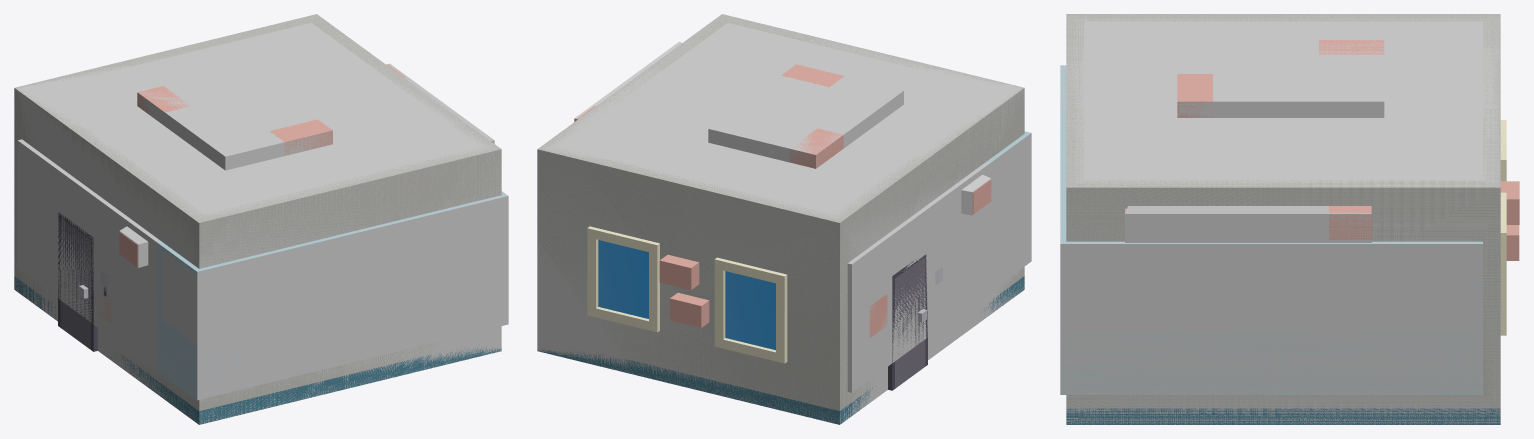
The model's file is Home11_B1_1_01.FBX.
3 renders of one model, left to right at view 1: azimuth 30°, elevation 25°; view 2: azimuth 150°, elevation 25°; view 3: azimuth 270°, elevation 25°, orthographic. The views are drawn at different scales.
Parts seen in each view (by area): view 1: Home11_B1_Damage_1_01, Home11_B1_Live_1_01; view 2: Home11_B1_Damage_1_01, Home11_B1_Live_1_01; view 3: Home11_B1_Damage_1_01, Home11_B1_Live_1_01.
Part boxes in pixels (bbox=[...]): Home11_B1_Damage_1_01: bbox=[14, 15, 508, 424]; Home11_B1_Live_1_01: bbox=[14, 14, 507, 424]; Home11_B1_Damage_1_01: bbox=[537, 14, 1031, 424]; Home11_B1_Live_1_01: bbox=[537, 14, 1030, 424]; Home11_B1_Damage_1_01: bbox=[1060, 14, 1500, 424]; Home11_B1_Live_1_01: bbox=[1060, 14, 1519, 424].
Bounding box in the file's own units: 5.81 × 3.58 × 5.88.
